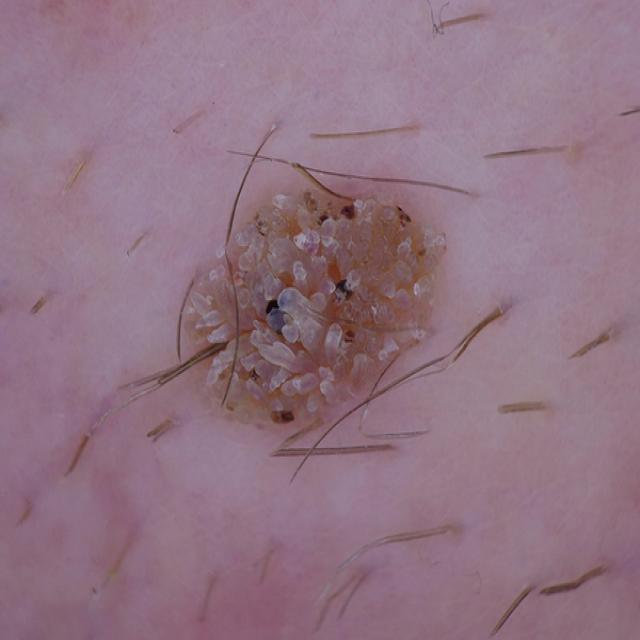Skin-Cancer Pigmented benign keratosis: (91, 22, 591, 638)
